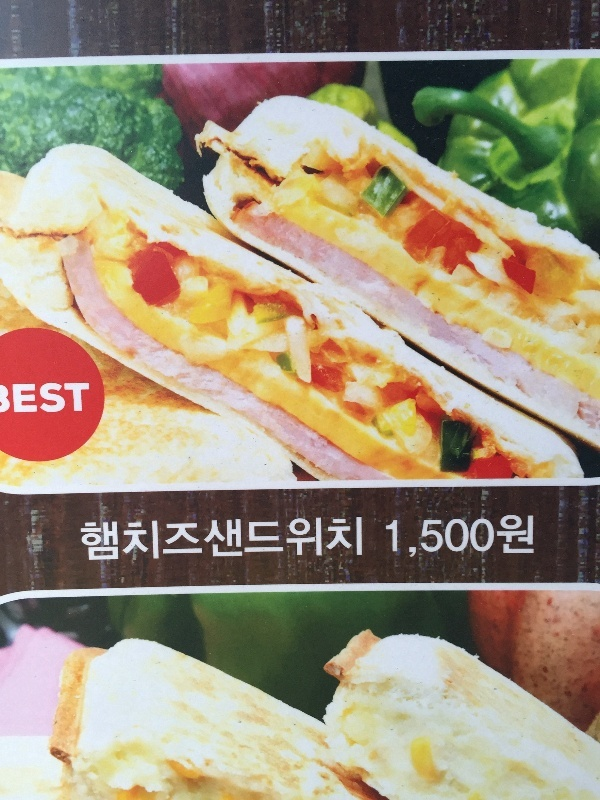text: (385, 514, 400, 560), (401, 514, 416, 560), (417, 514, 432, 560), (433, 514, 448, 560), (449, 514, 464, 560), (465, 514, 480, 560), (481, 514, 496, 560), (497, 514, 512, 560), (513, 514, 528, 560), (81, 520, 96, 564), (97, 520, 112, 564), (113, 520, 128, 564), (129, 520, 144, 564), (145, 520, 160, 564), (161, 520, 176, 564), (177, 520, 192, 564), (225, 516, 240, 558), (241, 516, 256, 558), (257, 516, 272, 558), (273, 516, 288, 558), (289, 516, 304, 558), (305, 516, 320, 558), (321, 516, 336, 558), (337, 516, 352, 558), (210, 516, 224, 558), (1, 384, 16, 417), (193, 520, 204, 564), (17, 382, 32, 414), (33, 382, 48, 414), (49, 382, 64, 414), (65, 382, 80, 414), (353, 516, 364, 558), (81, 382, 90, 414), (529, 514, 535, 560), (12, 382, 16, 414), (78, 520, 80, 564)
